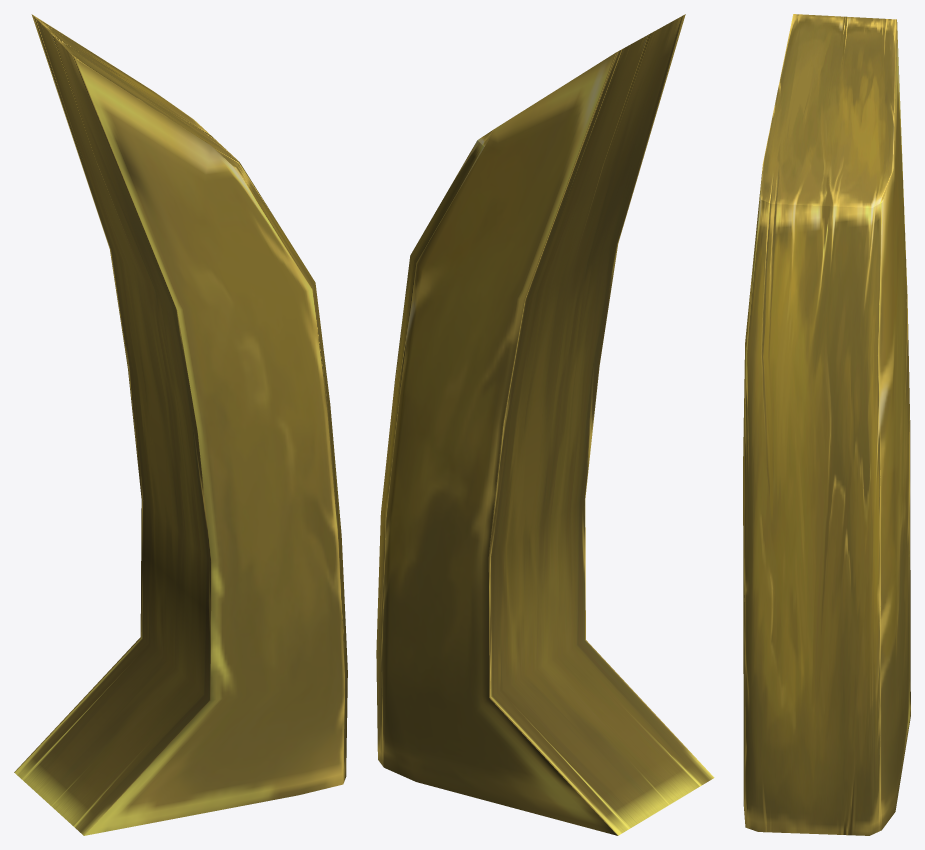
Rendered from relic holder.fbx.
3 renders of one model, left to right at view 1: azimuth 30°, elevation 25°; view 2: azimuth 150°, elevation 25°; view 3: azimuth 270°, elevation 25°, orthographic. The views are drawn at different scales.
Visible parts, largest first — view 1: pCube1; view 2: pCube1; view 3: pCube1.
Part boxes in pixels (x1,y1,x2,y2): pCube1: [14, 14, 347, 835]; pCube1: [376, 14, 714, 835]; pCube1: [743, 14, 910, 835].
Size of the model in its own units: 4.67 by 12.55 by 2.71.
